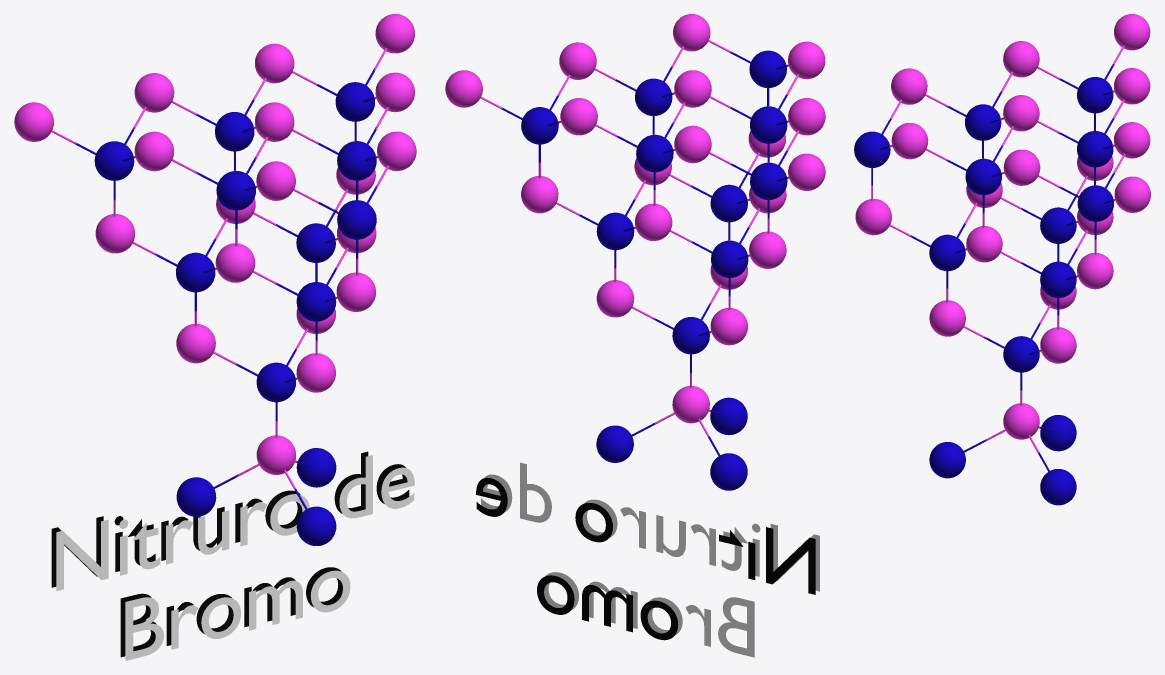
File: nitruro de bromo.glb
The picture shows the model from 3 angles, left to right: view 1: azimuth 30°, elevation 25°; view 2: azimuth 150°, elevation 25°; view 3: azimuth 270°, elevation 25°; orthographic projection. The views are drawn at different scales.
Parts seen in each view (by area): view 1: Text.006, Text.001, Sphere.203, Sphere.200, Sphere.076, Sphere.084, Sphere.077, Sphere.198, Sphere.213, Sphere.202, Sphere.212, Sphere.229 (+18 smaller); view 2: Text.006, Text.001, Sphere.212, Sphere.078, Sphere.213, Sphere.080, Sphere.198, Sphere.200, Sphere.204, Sphere.229, Sphere.077, Sphere.070 (+18 smaller); view 3: Sphere.080, Sphere.229, Sphere.204, Sphere.070, Sphere.079, Sphere.076, Sphere.090, Sphere.213, Sphere.078, Sphere.198, Sphere.202, Sphere.211 (+19 smaller).
Boxes of the visible parts, left/top/right/bottom form: Text.006: left=56, top=455, right=414, bottom=660; Text.001: left=51, top=451, right=409, bottom=657; Sphere.203: left=337, top=200, right=376, bottom=239; Sphere.200: left=14, top=102, right=53, bottom=141; Sphere.076: left=296, top=506, right=336, bottom=545; Sphere.084: left=95, top=214, right=135, bottom=253; Sphere.077: left=176, top=477, right=216, bottom=516; Sphere.198: left=134, top=131, right=174, bottom=171; Sphere.213: left=134, top=73, right=174, bottom=112; Sphere.202: left=256, top=161, right=295, bottom=200; Sphere.212: left=255, top=43, right=294, bottom=83; Sphere.229: left=375, top=14, right=414, bottom=53; Text.006: left=481, top=462, right=819, bottom=657; Text.001: left=476, top=477, right=815, bottom=640; Sphere.212: left=560, top=98, right=597, bottom=135; Sphere.078: left=596, top=425, right=633, bottom=462; Sphere.213: left=674, top=125, right=711, bottom=163; Sphere.080: left=596, top=280, right=634, bottom=317; Sphere.198: left=788, top=98, right=825, bottom=135; Sphere.200: left=788, top=153, right=825, bottom=190; Sphere.204: left=559, top=42, right=596, bottom=79; Sphere.229: left=445, top=70, right=482, bottom=107; Sphere.077: left=710, top=453, right=747, bottom=490; Sphere.070: left=672, top=385, right=709, bottom=423; Sphere.080: left=1040, top=327, right=1076, bottom=363; Sphere.229: left=1114, top=176, right=1150, bottom=212; Sphere.204: left=1003, top=149, right=1040, bottom=185; Sphere.070: left=1003, top=403, right=1039, bottom=439; Sphere.079: left=929, top=300, right=965, bottom=336; Sphere.076: left=929, top=442, right=965, bottom=478; Sphere.090: left=966, top=226, right=1002, bottom=262; Sphere.213: left=1114, top=68, right=1150, bottom=104; Sphere.078: left=1040, top=469, right=1076, bottom=505; Sphere.198: left=1003, top=41, right=1039, bottom=77; Sphere.202: left=891, top=68, right=927, bottom=104; Sphere.211: left=1003, top=95, right=1039, bottom=131.
Bounding box in the file's own units: 14.8 × 20.1 × 10.44.
